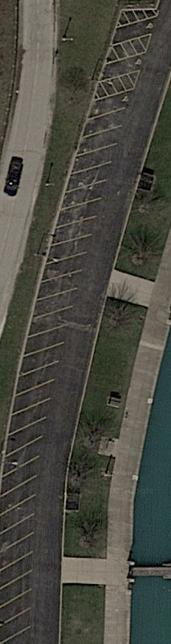parkingspot: (0, 87, 137, 644), (97, 50, 148, 84), (109, 15, 159, 47)
